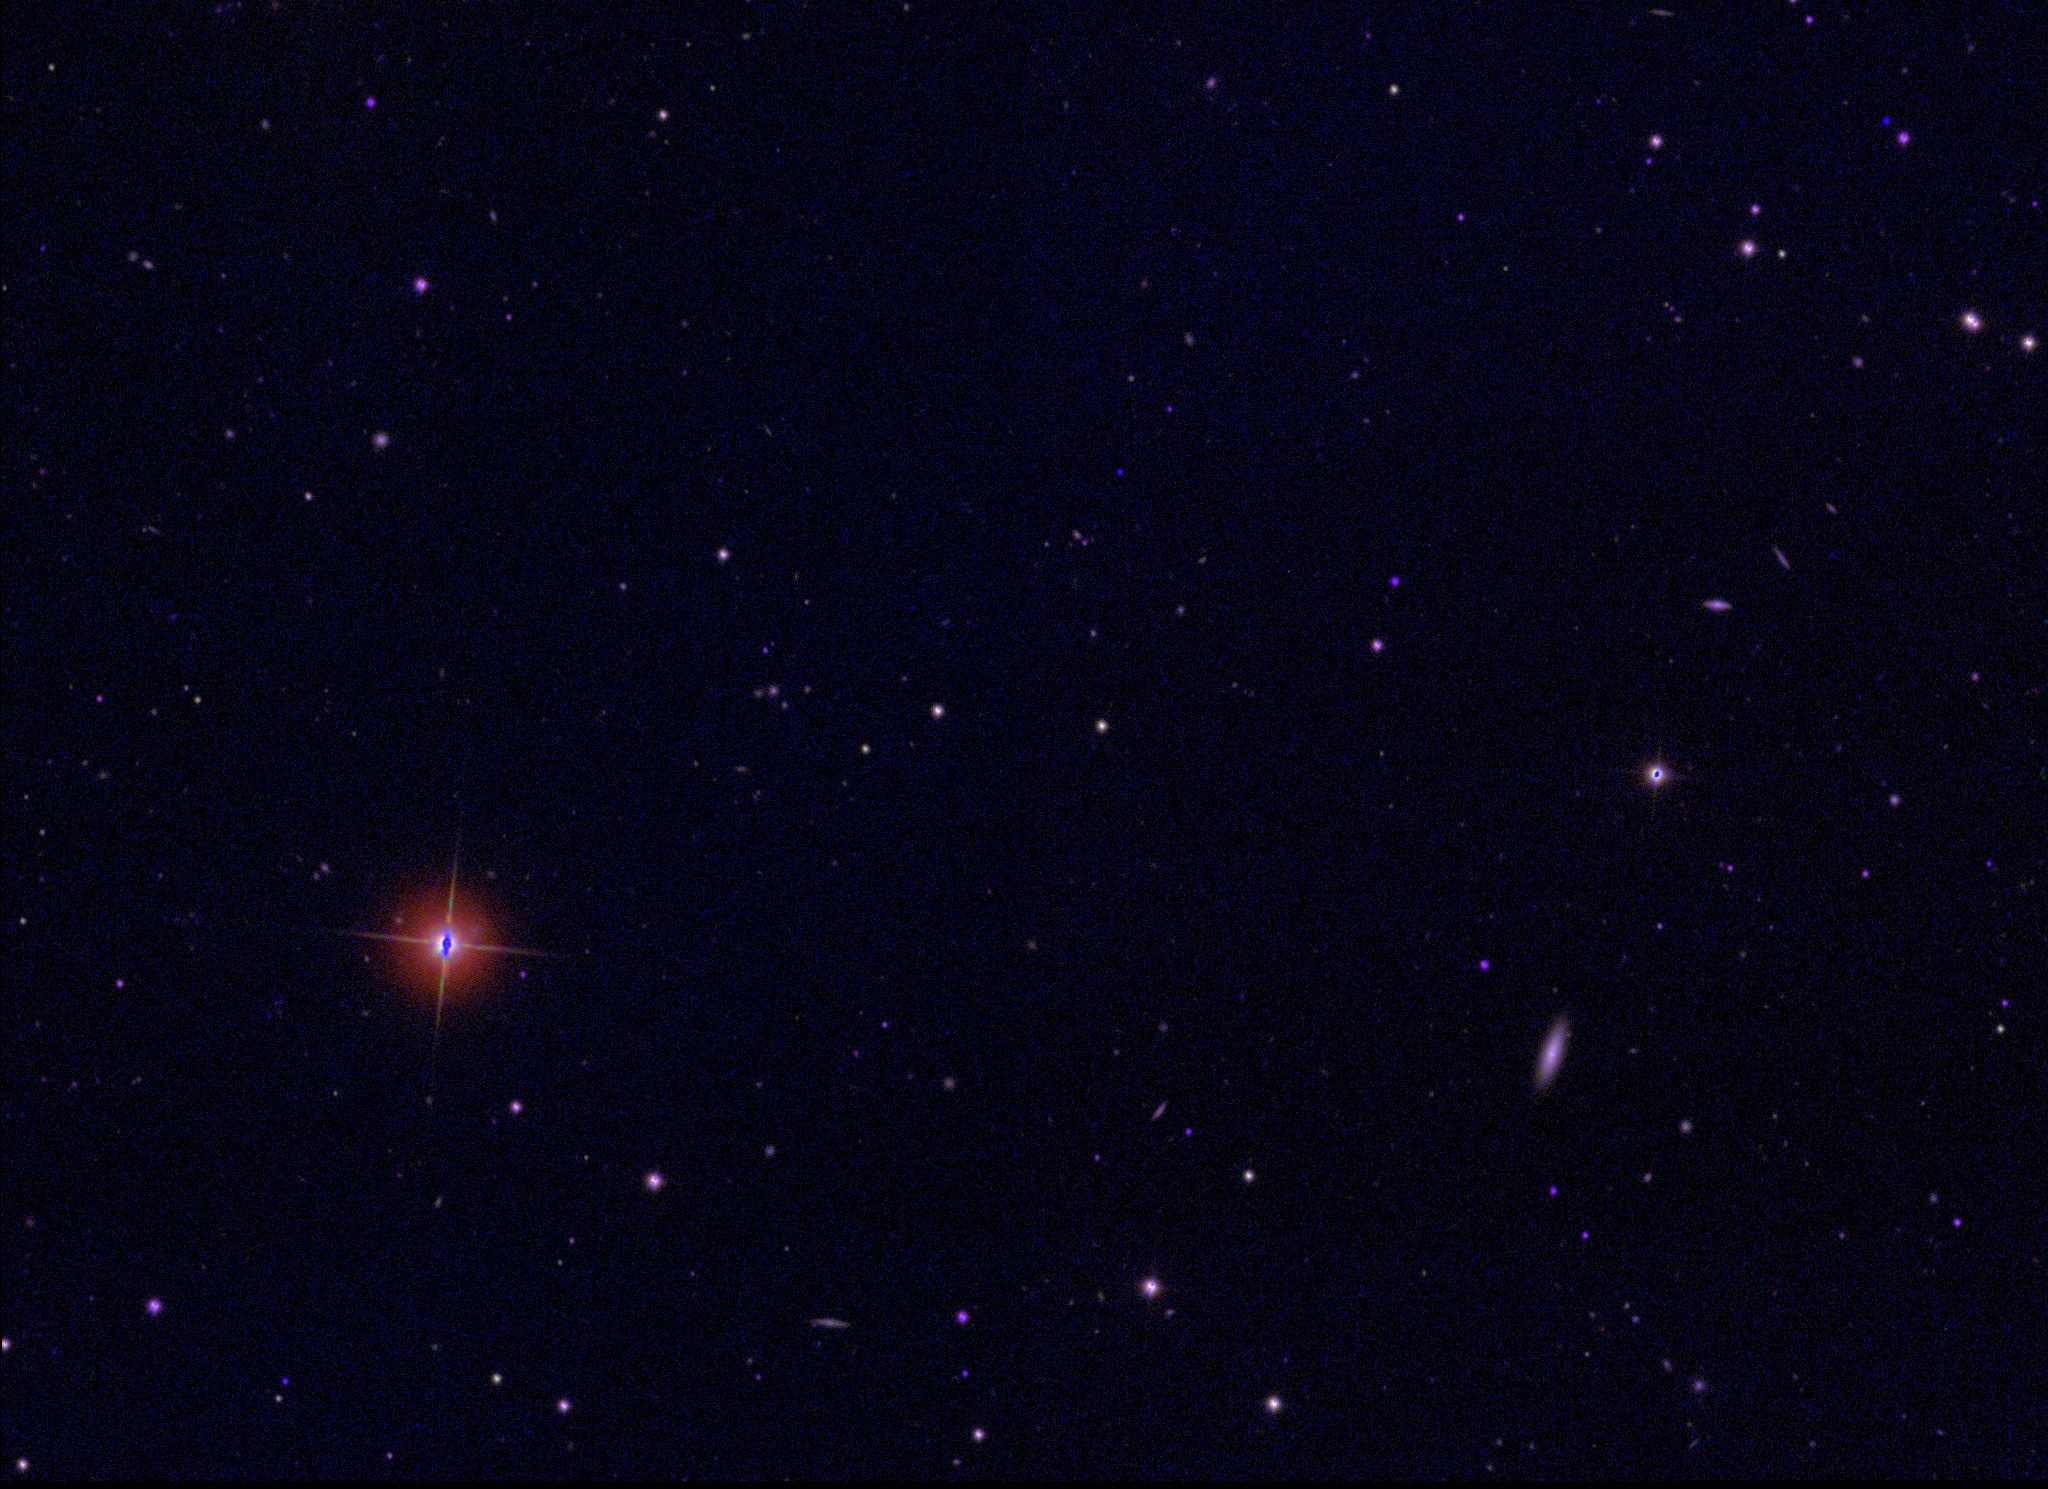L: (1878, 115, 1892, 129)
